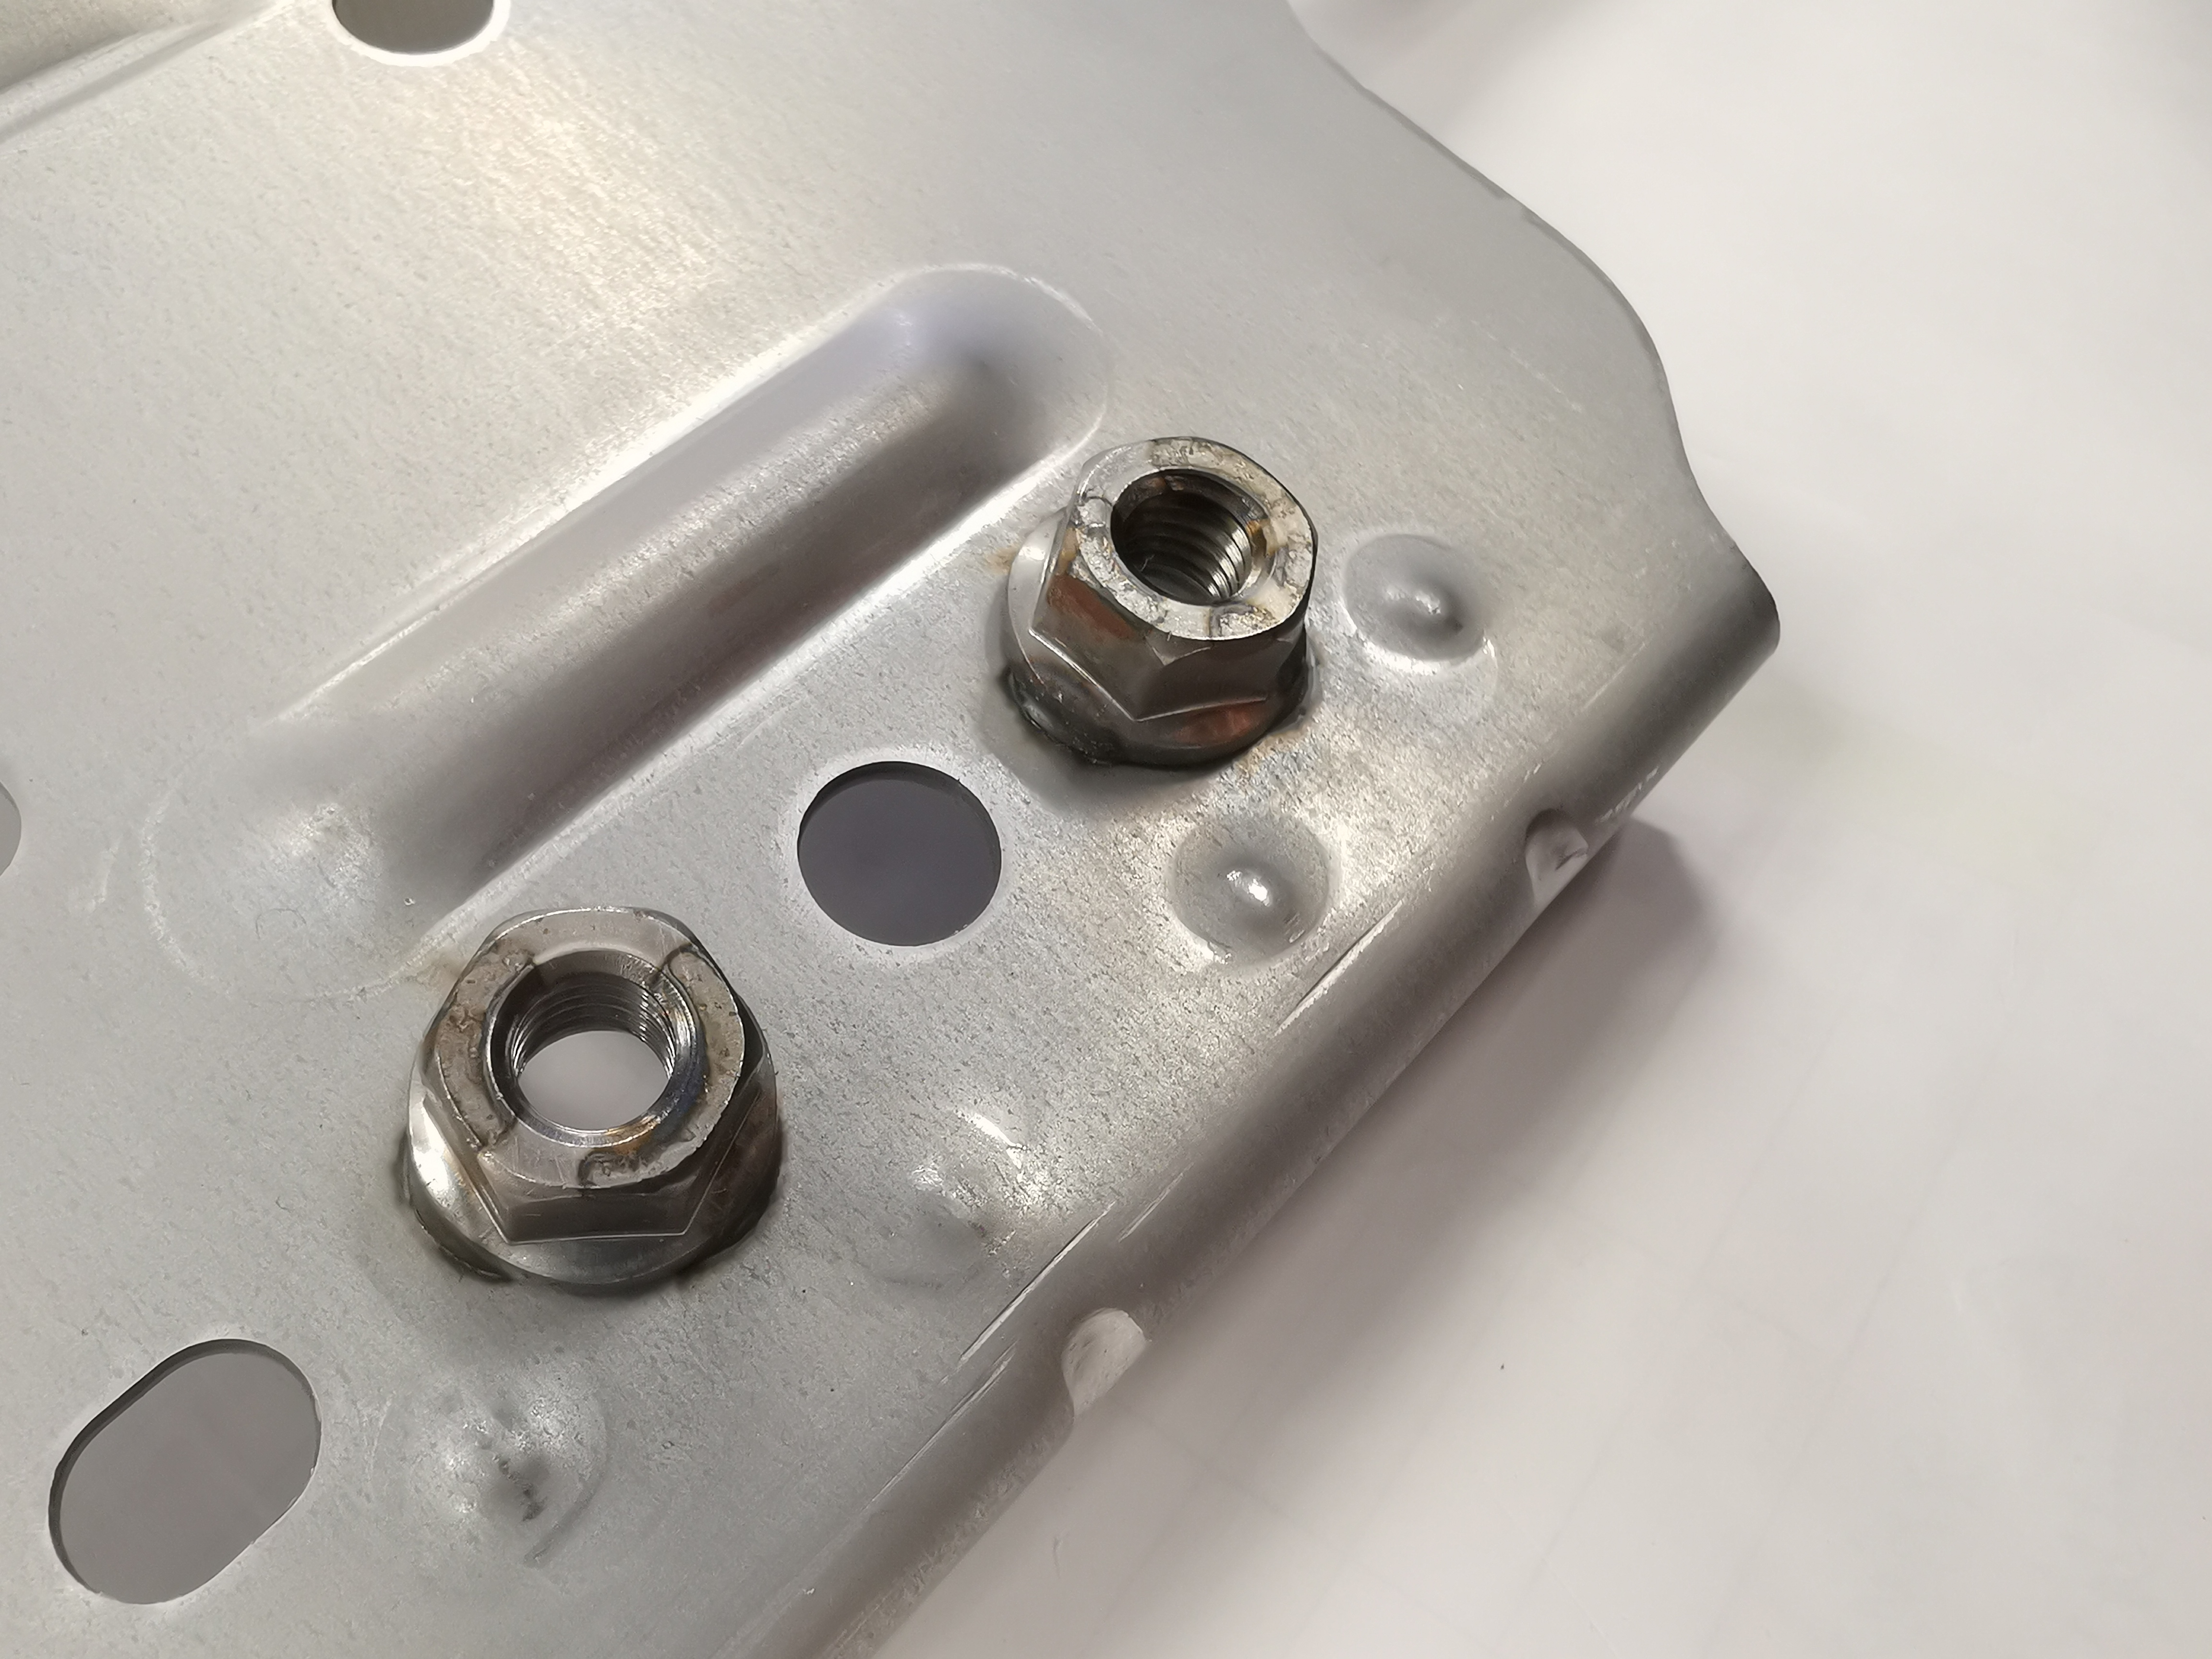dog: (383, 897, 789, 1295), (993, 429, 1324, 779)
